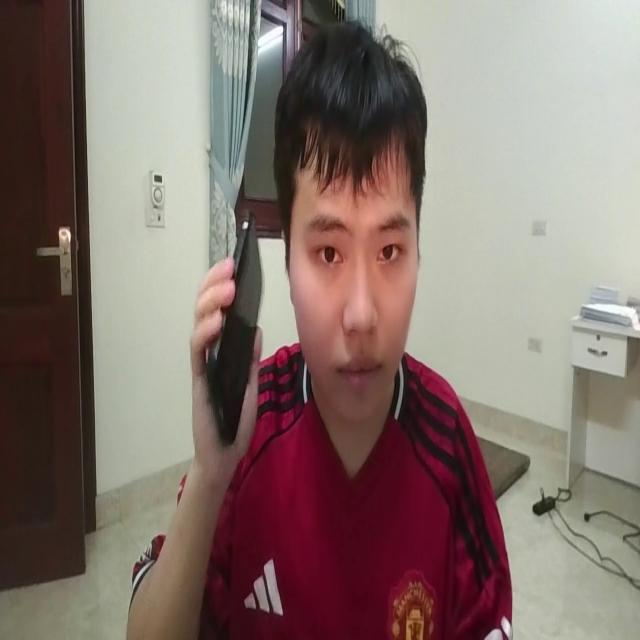phone: (204, 197, 266, 457)
student: (124, 9, 512, 640)
